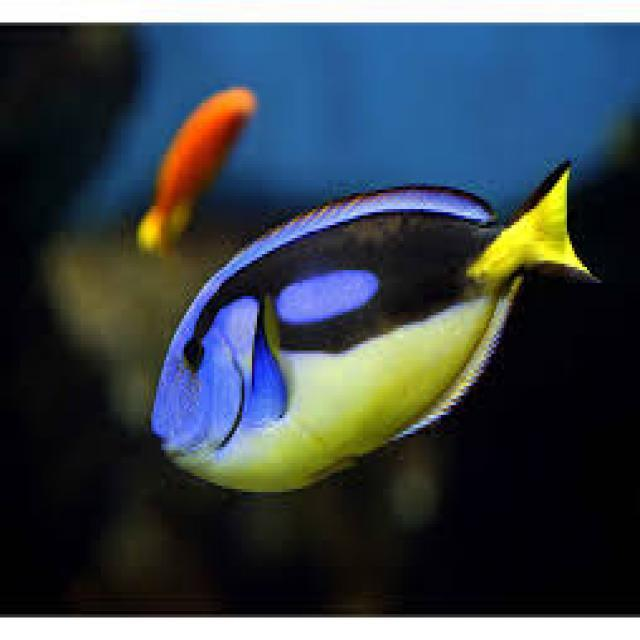BlueTang: (155, 157, 580, 496)
